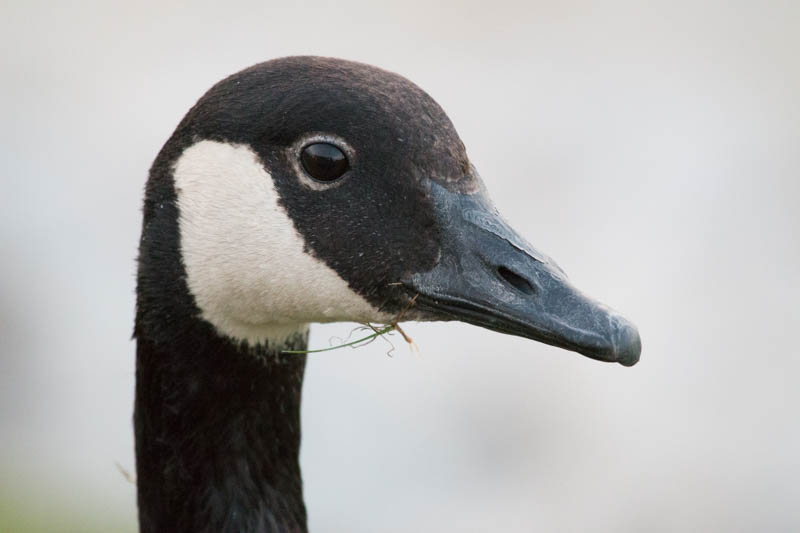goose-head: (135, 56, 642, 369)
